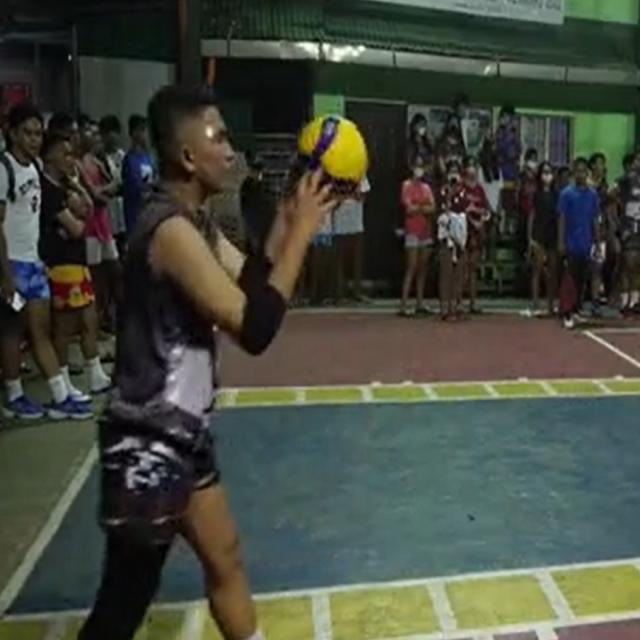volleyball: (297, 114, 368, 203)
